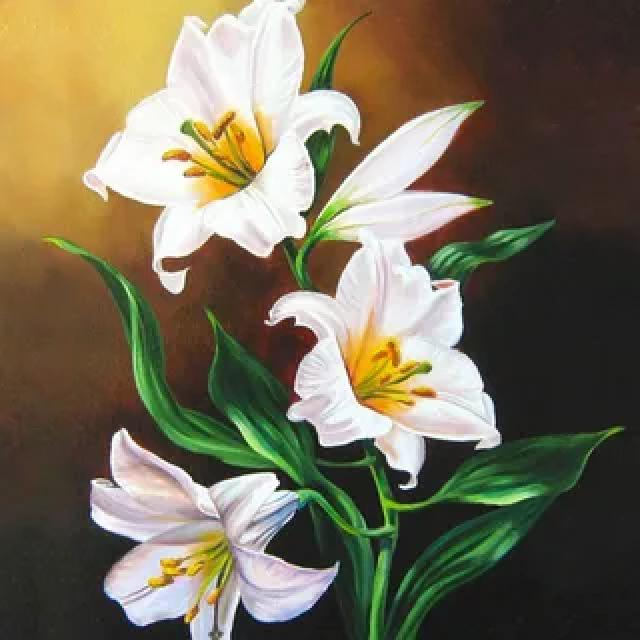lily: (269, 237, 520, 488)
